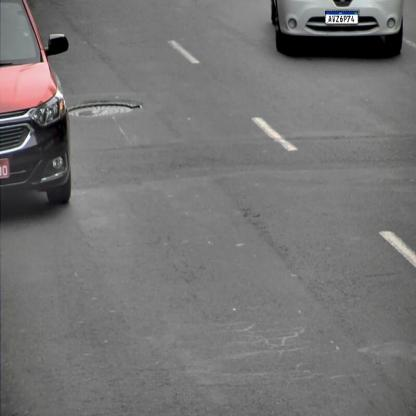PlacaM: (325, 11, 358, 24)
